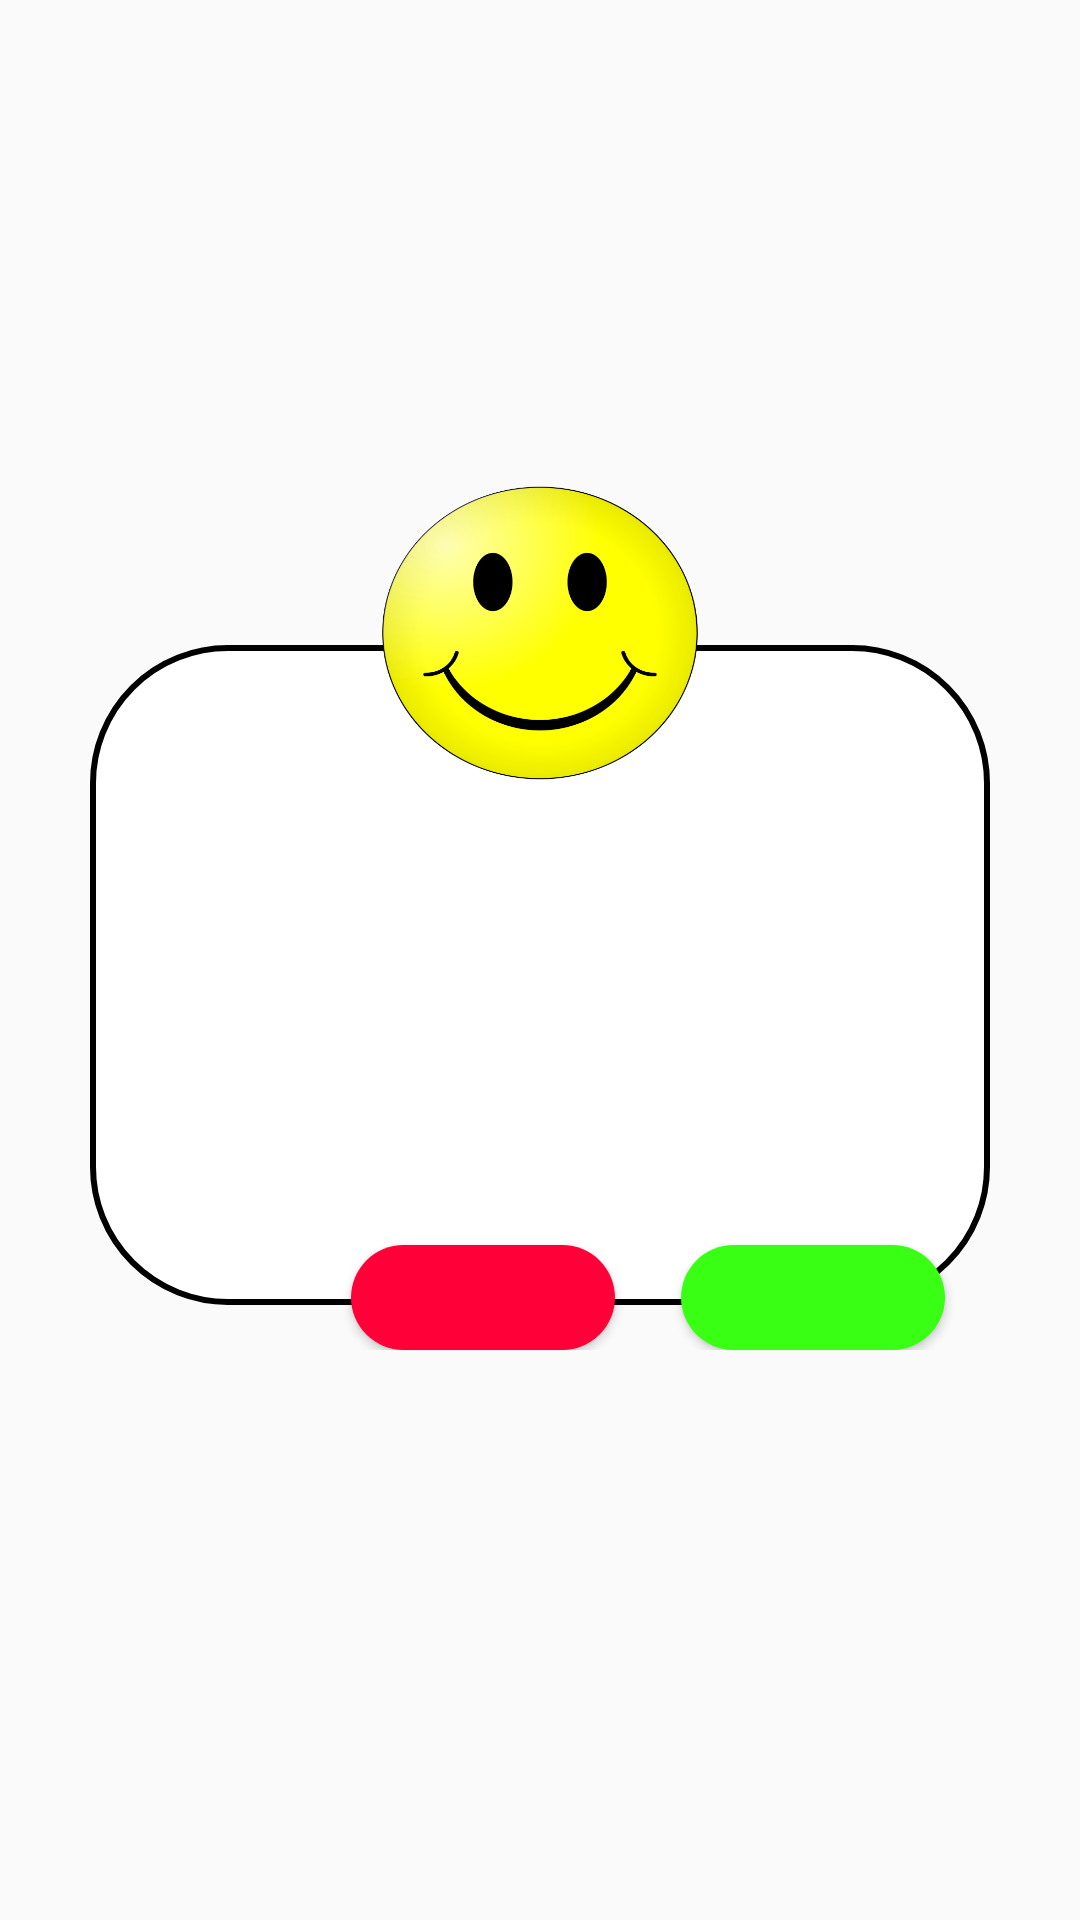

Icon click points for this 1080 x 1920 phone screenshot, format [x,y]:
winner: [540,633]
